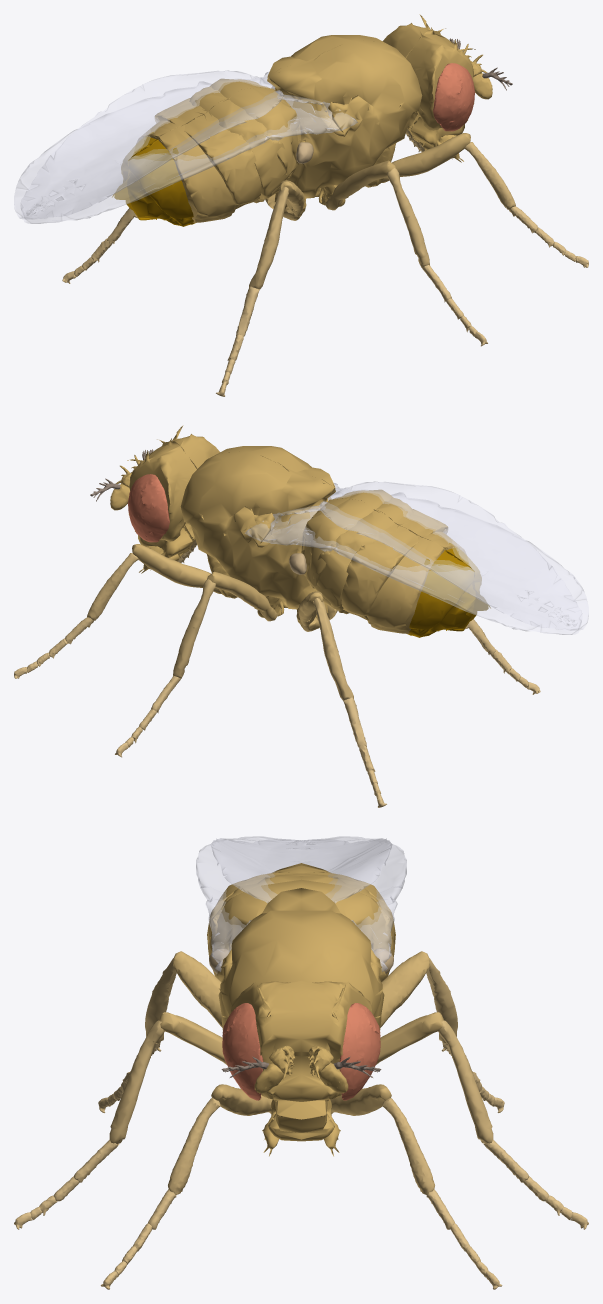
The model's file is neuromechfly.glb.
3 views of the same model, one above another, from view 1: azimuth 30°, elevation 25°; view 2: azimuth 150°, elevation 25°; view 3: azimuth 270°, elevation 25° (orthographic). The views are drawn at different scales.
Parts seen in each view (by area): view 1: r_wing, c_thorax, l_wing, c_abdomen6, c_abdomen4, c_abdomen5, c_head, c_abdomen3, c_abdomen12, r_eye, rf_trochanterfemur, rh_tibia (+6 smaller); view 2: l_wing, c_thorax, r_wing, c_abdomen6, c_abdomen4, c_abdomen5, c_head, c_abdomen3, c_abdomen12, l_eye, lf_trochanterfemur, lh_tibia (+6 smaller); view 3: c_thorax, l_wing, r_wing, c_head, c_abdomen12, l_eye, r_eye, c_rostrum, rm_tibia, lm_tibia, lh_trochanterfemur, rh_trochanterfemur (+11 smaller).
Part boxes in pixels (bbox=[...]): r_wing: bbox=[20, 70, 357, 223]; c_thorax: bbox=[267, 35, 422, 198]; l_wing: bbox=[14, 72, 283, 219]; c_abdomen6: bbox=[112, 132, 196, 226]; c_abdomen4: bbox=[155, 98, 261, 209]; c_abdomen5: bbox=[136, 120, 236, 222]; c_head: bbox=[383, 14, 475, 130]; c_abdomen3: bbox=[189, 86, 289, 203]; c_abdomen12: bbox=[210, 78, 301, 177]; r_eye: bbox=[433, 63, 475, 131]; rf_trochanterfemur: bbox=[381, 133, 470, 182]; rh_tibia: bbox=[249, 187, 289, 289]; l_wing: bbox=[245, 481, 582, 634]; c_thorax: bbox=[180, 446, 335, 609]; r_wing: bbox=[319, 483, 588, 630]; c_abdomen6: bbox=[406, 543, 490, 637]; c_abdomen4: bbox=[341, 509, 447, 620]; c_abdomen5: bbox=[366, 531, 466, 633]; c_head: bbox=[127, 425, 219, 541]; c_abdomen3: bbox=[313, 497, 413, 614]; c_abdomen12: bbox=[301, 489, 392, 588]; l_eye: bbox=[127, 474, 169, 542]; lf_trochanterfemur: bbox=[132, 544, 221, 593]; lh_tibia: bbox=[313, 598, 353, 700]; c_thorax: bbox=[216, 888, 386, 1029]; l_wing: bbox=[210, 836, 406, 971]; r_wing: bbox=[196, 836, 392, 971]; c_head: bbox=[230, 981, 372, 1101]; c_abdomen12: bbox=[210, 879, 392, 952]; l_eye: bbox=[339, 1003, 380, 1100]; r_eye: bbox=[222, 1003, 263, 1100]; c_rostrum: bbox=[262, 1099, 340, 1156]; rm_tibia: bbox=[109, 1020, 164, 1144]; lm_tibia: bbox=[438, 1020, 493, 1144]; lh_trochanterfemur: bbox=[380, 951, 429, 1027]; rh_trochanterfemur: bbox=[173, 951, 222, 1027].
Bounding box in the file's own units: 3.8 × 1.84 × 3.01.
